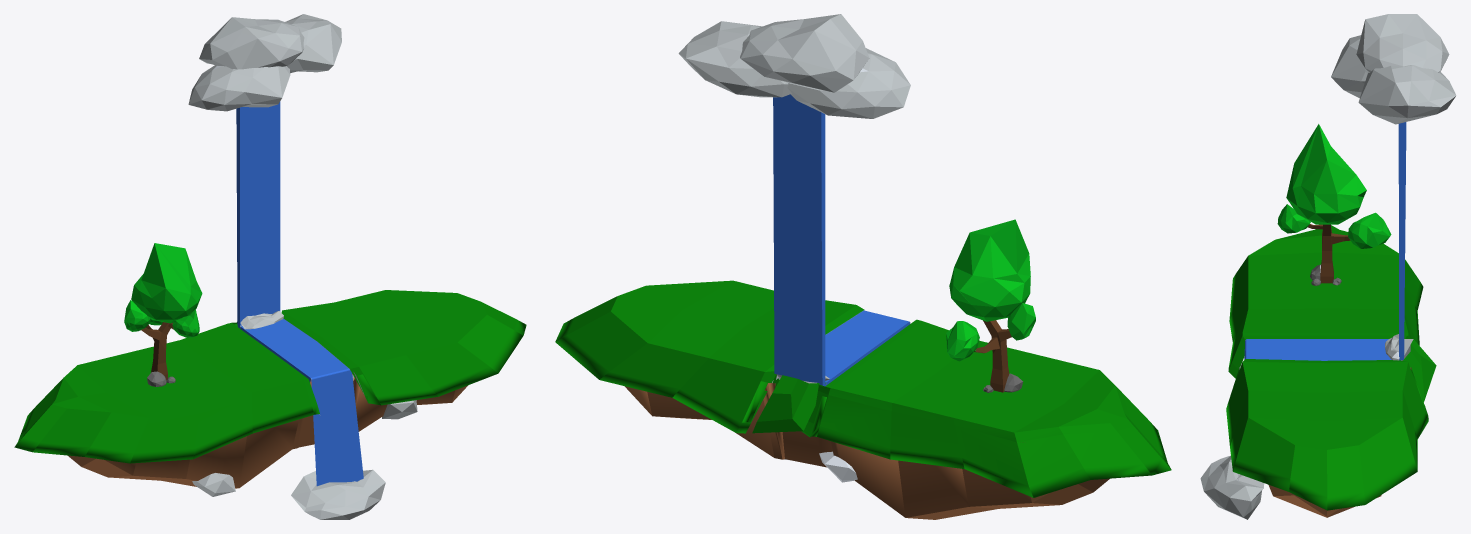
File: island.fbx
3 views of the same model, side by side, from view 1: azimuth 30°, elevation 25°; view 2: azimuth 150°, elevation 25°; view 3: azimuth 270°, elevation 25° (orthographic). The views are drawn at different scales.
Visible parts, largest first — view 1: Island; view 2: Island; view 3: Island.
Part boxes in pixels (left/top/right/bottom): Island: left=14, top=14, right=526, bottom=519; Island: left=555, top=14, right=1171, bottom=519; Island: left=1200, top=14, right=1456, bottom=519.
Size of the model in its own units: 1820 by 1508 by 733.
